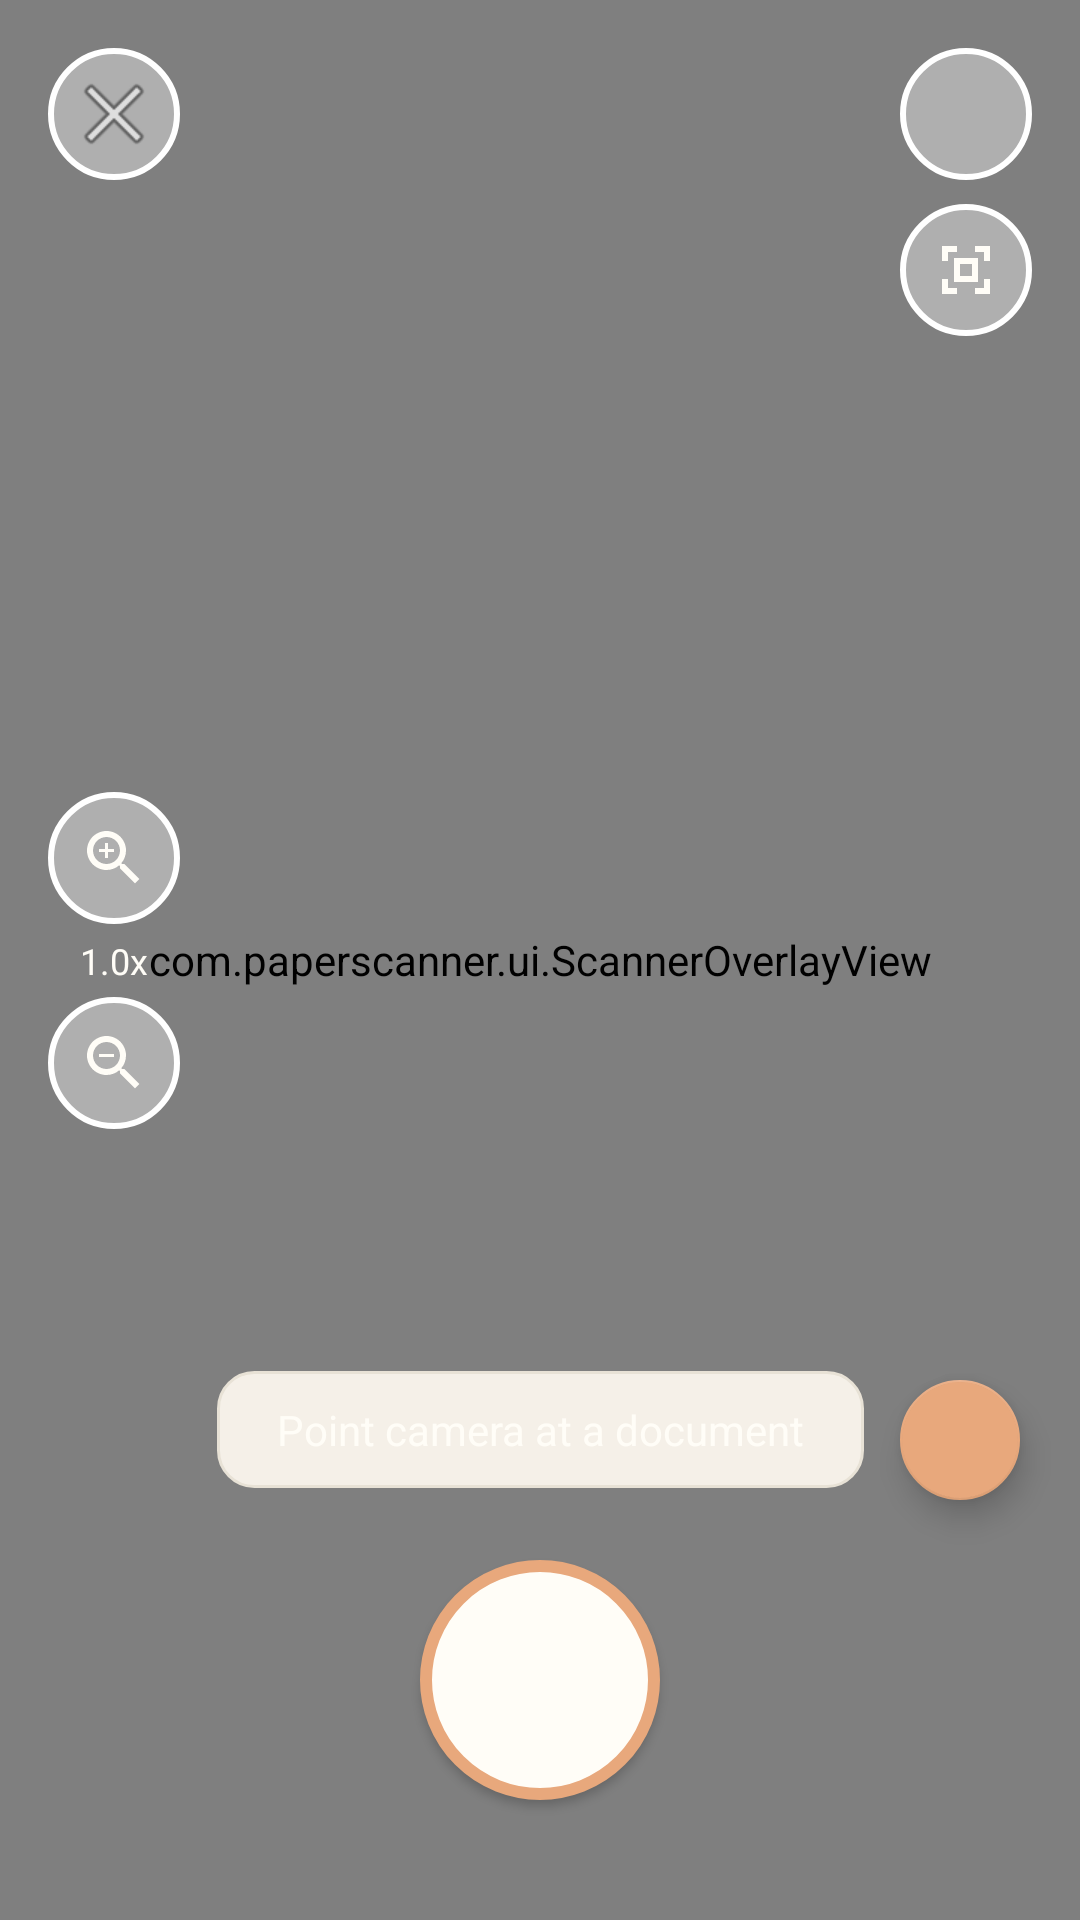

Icons on this 1080px×1920px Android screen, each with the point to tap as [x,y]:
Close: [114,114]
Turn document detection on or off: [966,270]
Zoom In: [114,858]
Zoom Out: [114,1063]
